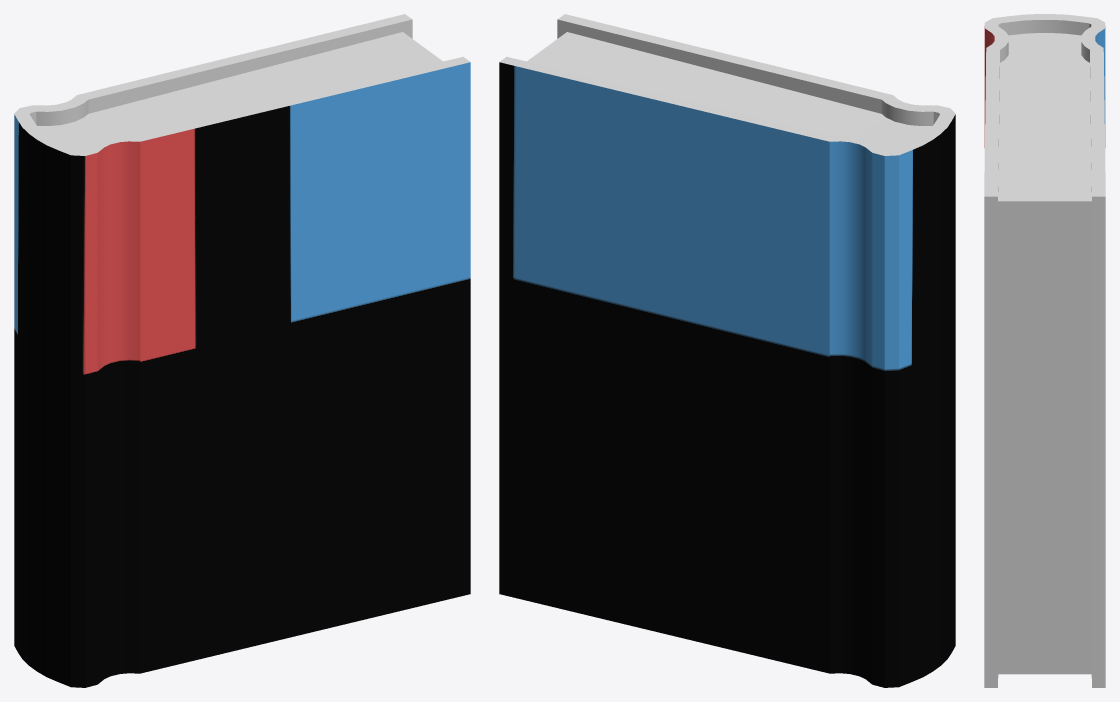
File: BOOK UV.fbx
3 renders of one model, left to right at view 1: azimuth 30°, elevation 25°; view 2: azimuth 150°, elevation 25°; view 3: azimuth 270°, elevation 25°, orthographic. The views are drawn at different scales.
Parts seen in each view (by area): view 1: Book 3; view 2: Book 3; view 3: Book 3.
Boxes of the visible parts, <box> form: Book 3: <box>14,14,470,687</box>; Book 3: <box>499,14,955,687</box>; Book 3: <box>984,14,1105,687</box>.
Bounding box in the file's own units: 0.3266 × 0.4101 × 0.092.
